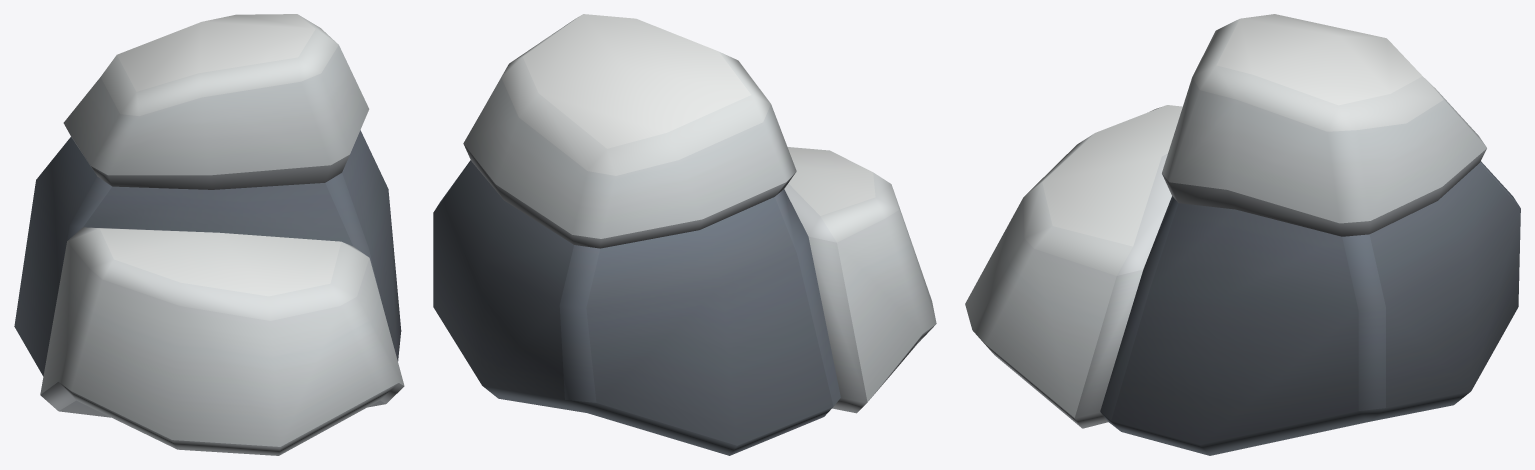
Rendered from rock_snow_05.fbx.
3 views of the same model, side by side, from view 1: azimuth 30°, elevation 25°; view 2: azimuth 150°, elevation 25°; view 3: azimuth 270°, elevation 25° (orthographic). The views are drawn at different scales.
Visible parts, largest first — view 1: rock_snow_05; view 2: rock_snow_05; view 3: rock_snow_05.
Boxes of the visible parts, box(x1,y1,x2,y2) form: rock_snow_05: box(14, 14, 404, 455); rock_snow_05: box(433, 14, 936, 455); rock_snow_05: box(965, 14, 1520, 455).
Bounding box in the file's own units: 122 × 105 × 138.
